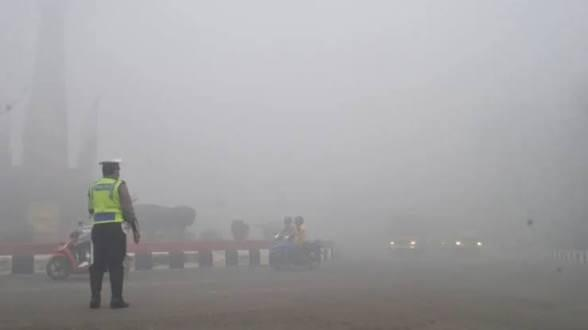Deteksi-Objek-Citra-Berasap: (0, 0, 588, 330)
Kendaraan: (45, 220, 96, 281), (265, 235, 338, 269), (438, 228, 488, 256), (386, 227, 423, 257)
Manusia: (85, 159, 141, 310), (278, 216, 297, 243), (292, 216, 308, 247)
Vegetasi: (135, 203, 196, 243)
